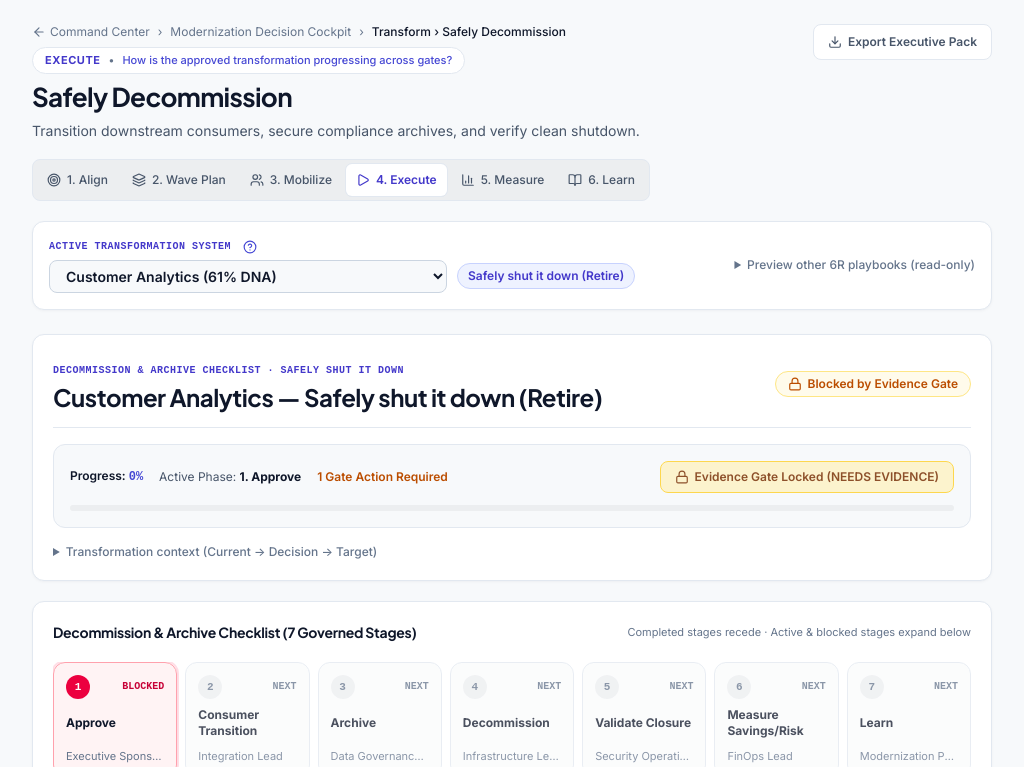
Test: EMOS v2 Full-Lifecycle Autonomous Implementation › renders Execute, Measure, and Learn workspaces in PortfolioPlanView and advances execution stages
The image size is (1024, 767).
Earlier steps of the test are not shown.
Check: the text "Consumer Transition" is shown, box [198,707,259,738]
Step 1. Click the button "5. Measure" → click(502, 180), box [451,164,554,196]
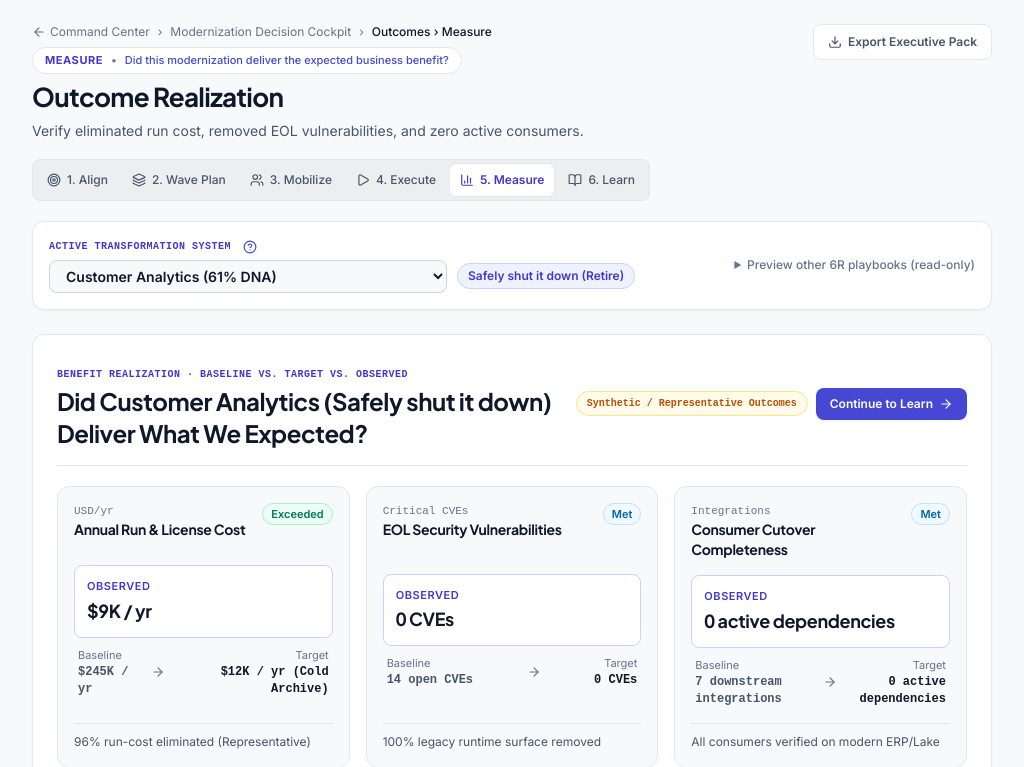
Check: the element named "Current journey stage: Measure" is shown, box [32,47,462,74]
Check: the text "Baseline" below "$9K / yr" is shown, box [78,648,122,662]
Check: the text "Target" below "$9K / yr" is shown, box [296,648,329,662]
Step 2. Click the button "6. Learn" → click(602, 180), box [558,164,645,196]
(page scrolled)
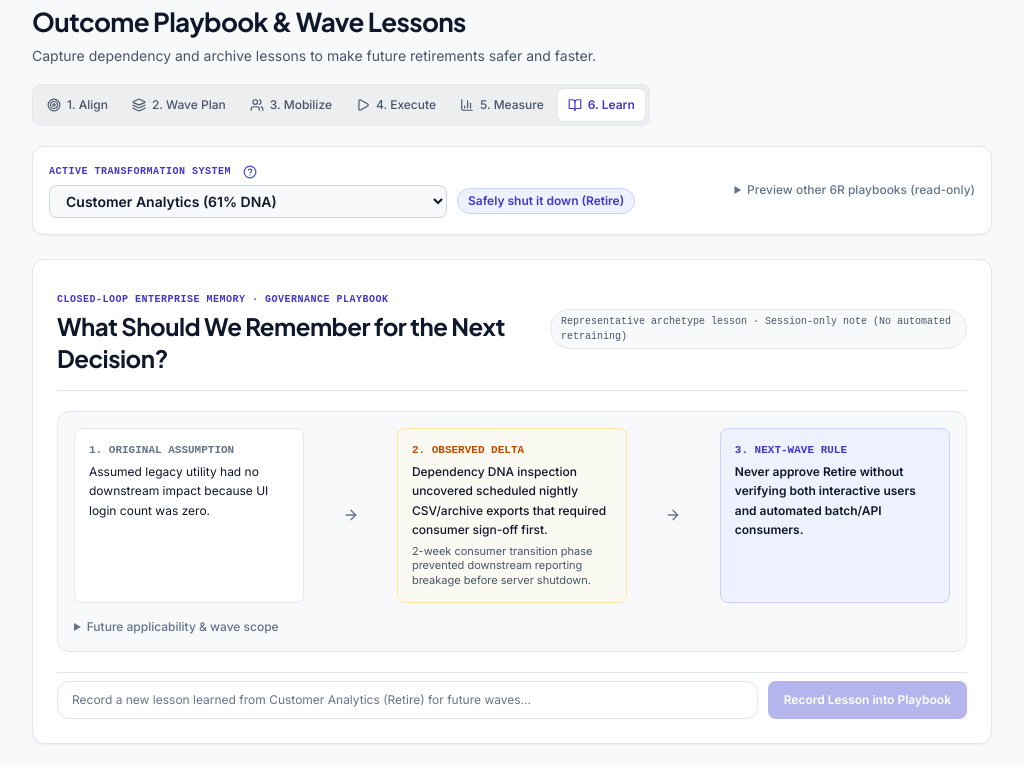
Check: the element named "Capture Transformation Learning" is shown, box [32,259,992,744]
Check: the text "1. Original Assumption" is shown, box [89,444,234,456]
Step 3. Replace the text in the field named "Record lesson learned" with "Verify partner allowlists 14 days before cutover." → (407, 700), box [57,680,758,718]
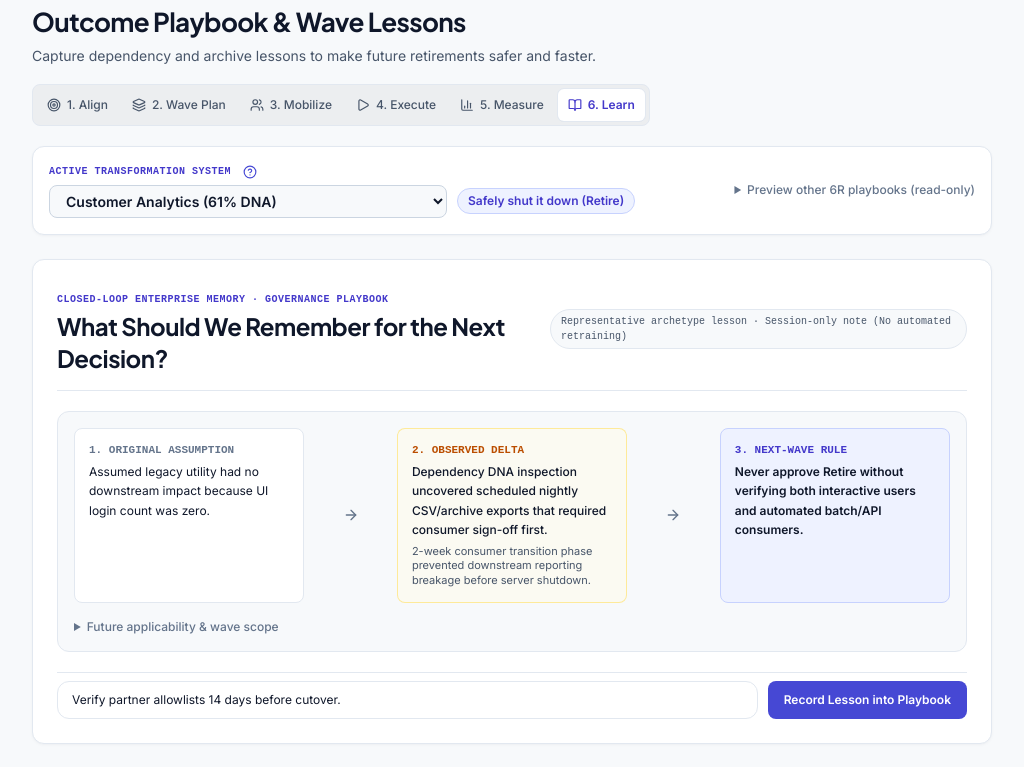
Step 4. Click the button "Record Lesson into Playbook" → click(867, 700), box [768,680,967,718]
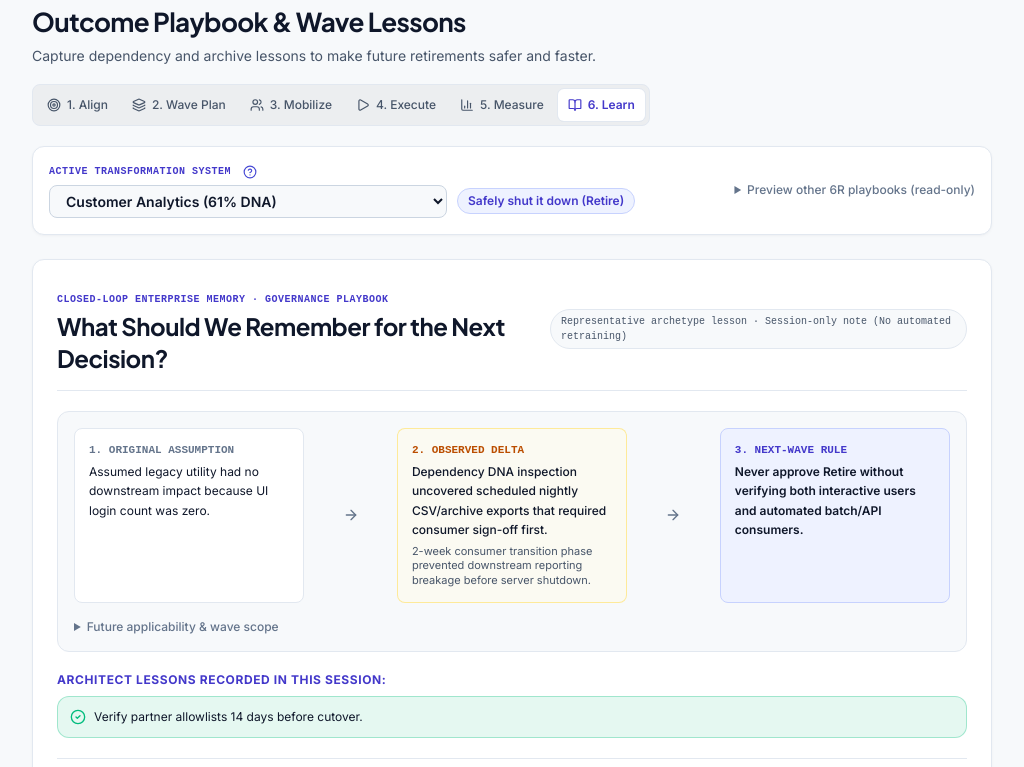
Check: the text "Verify partner allowlists 14 days before cutover." is shown, box [94,708,363,724]
